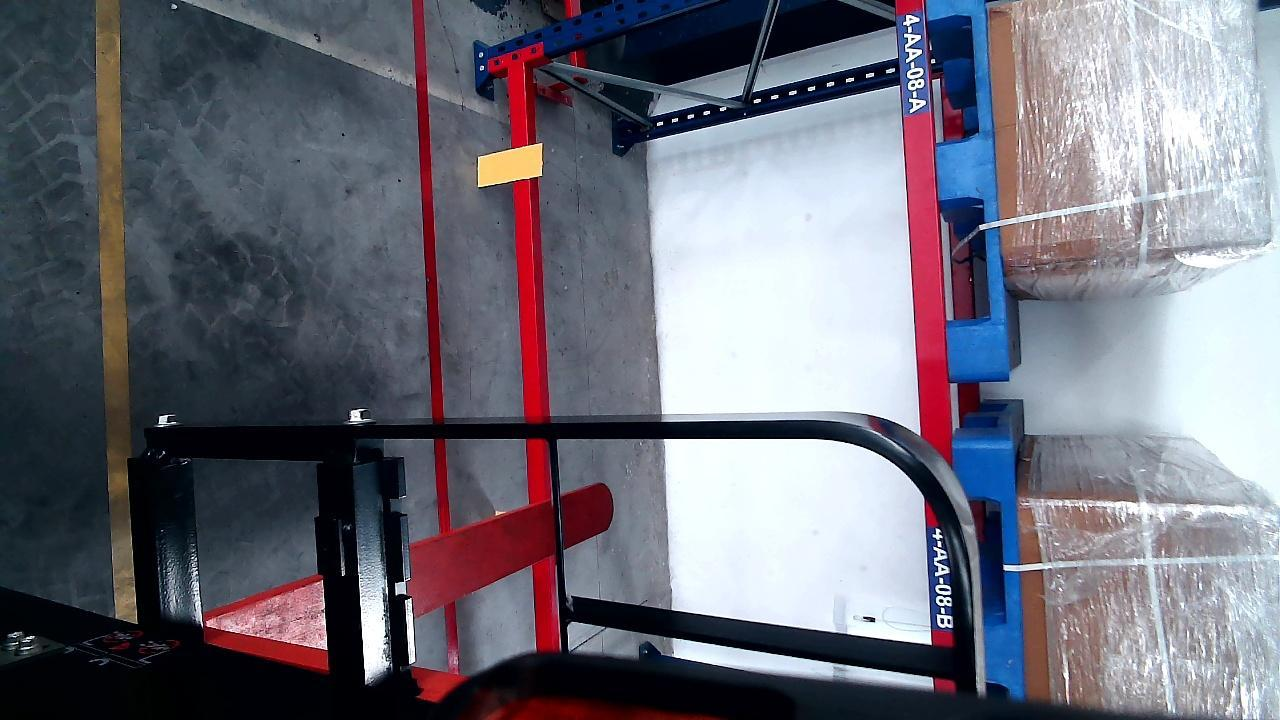red_line: (414, 0, 461, 668)
yellow_line: (94, 0, 136, 620)
